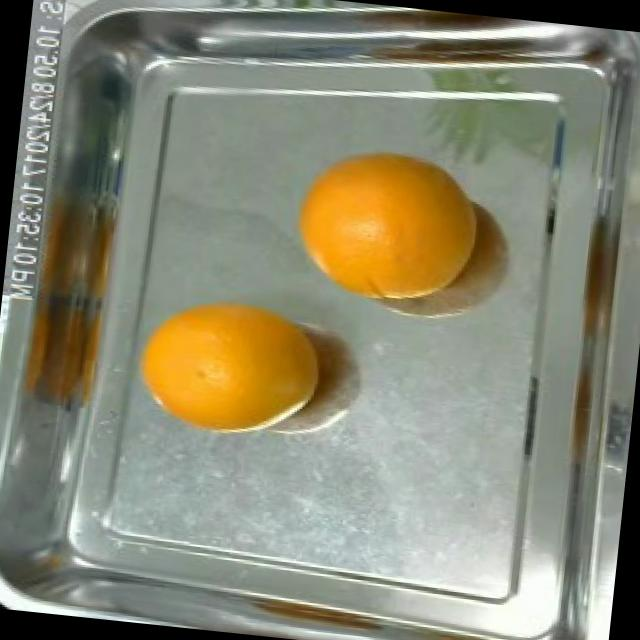Fruit: (276, 128, 490, 314), (121, 284, 326, 450), (0, 565, 39, 612)
